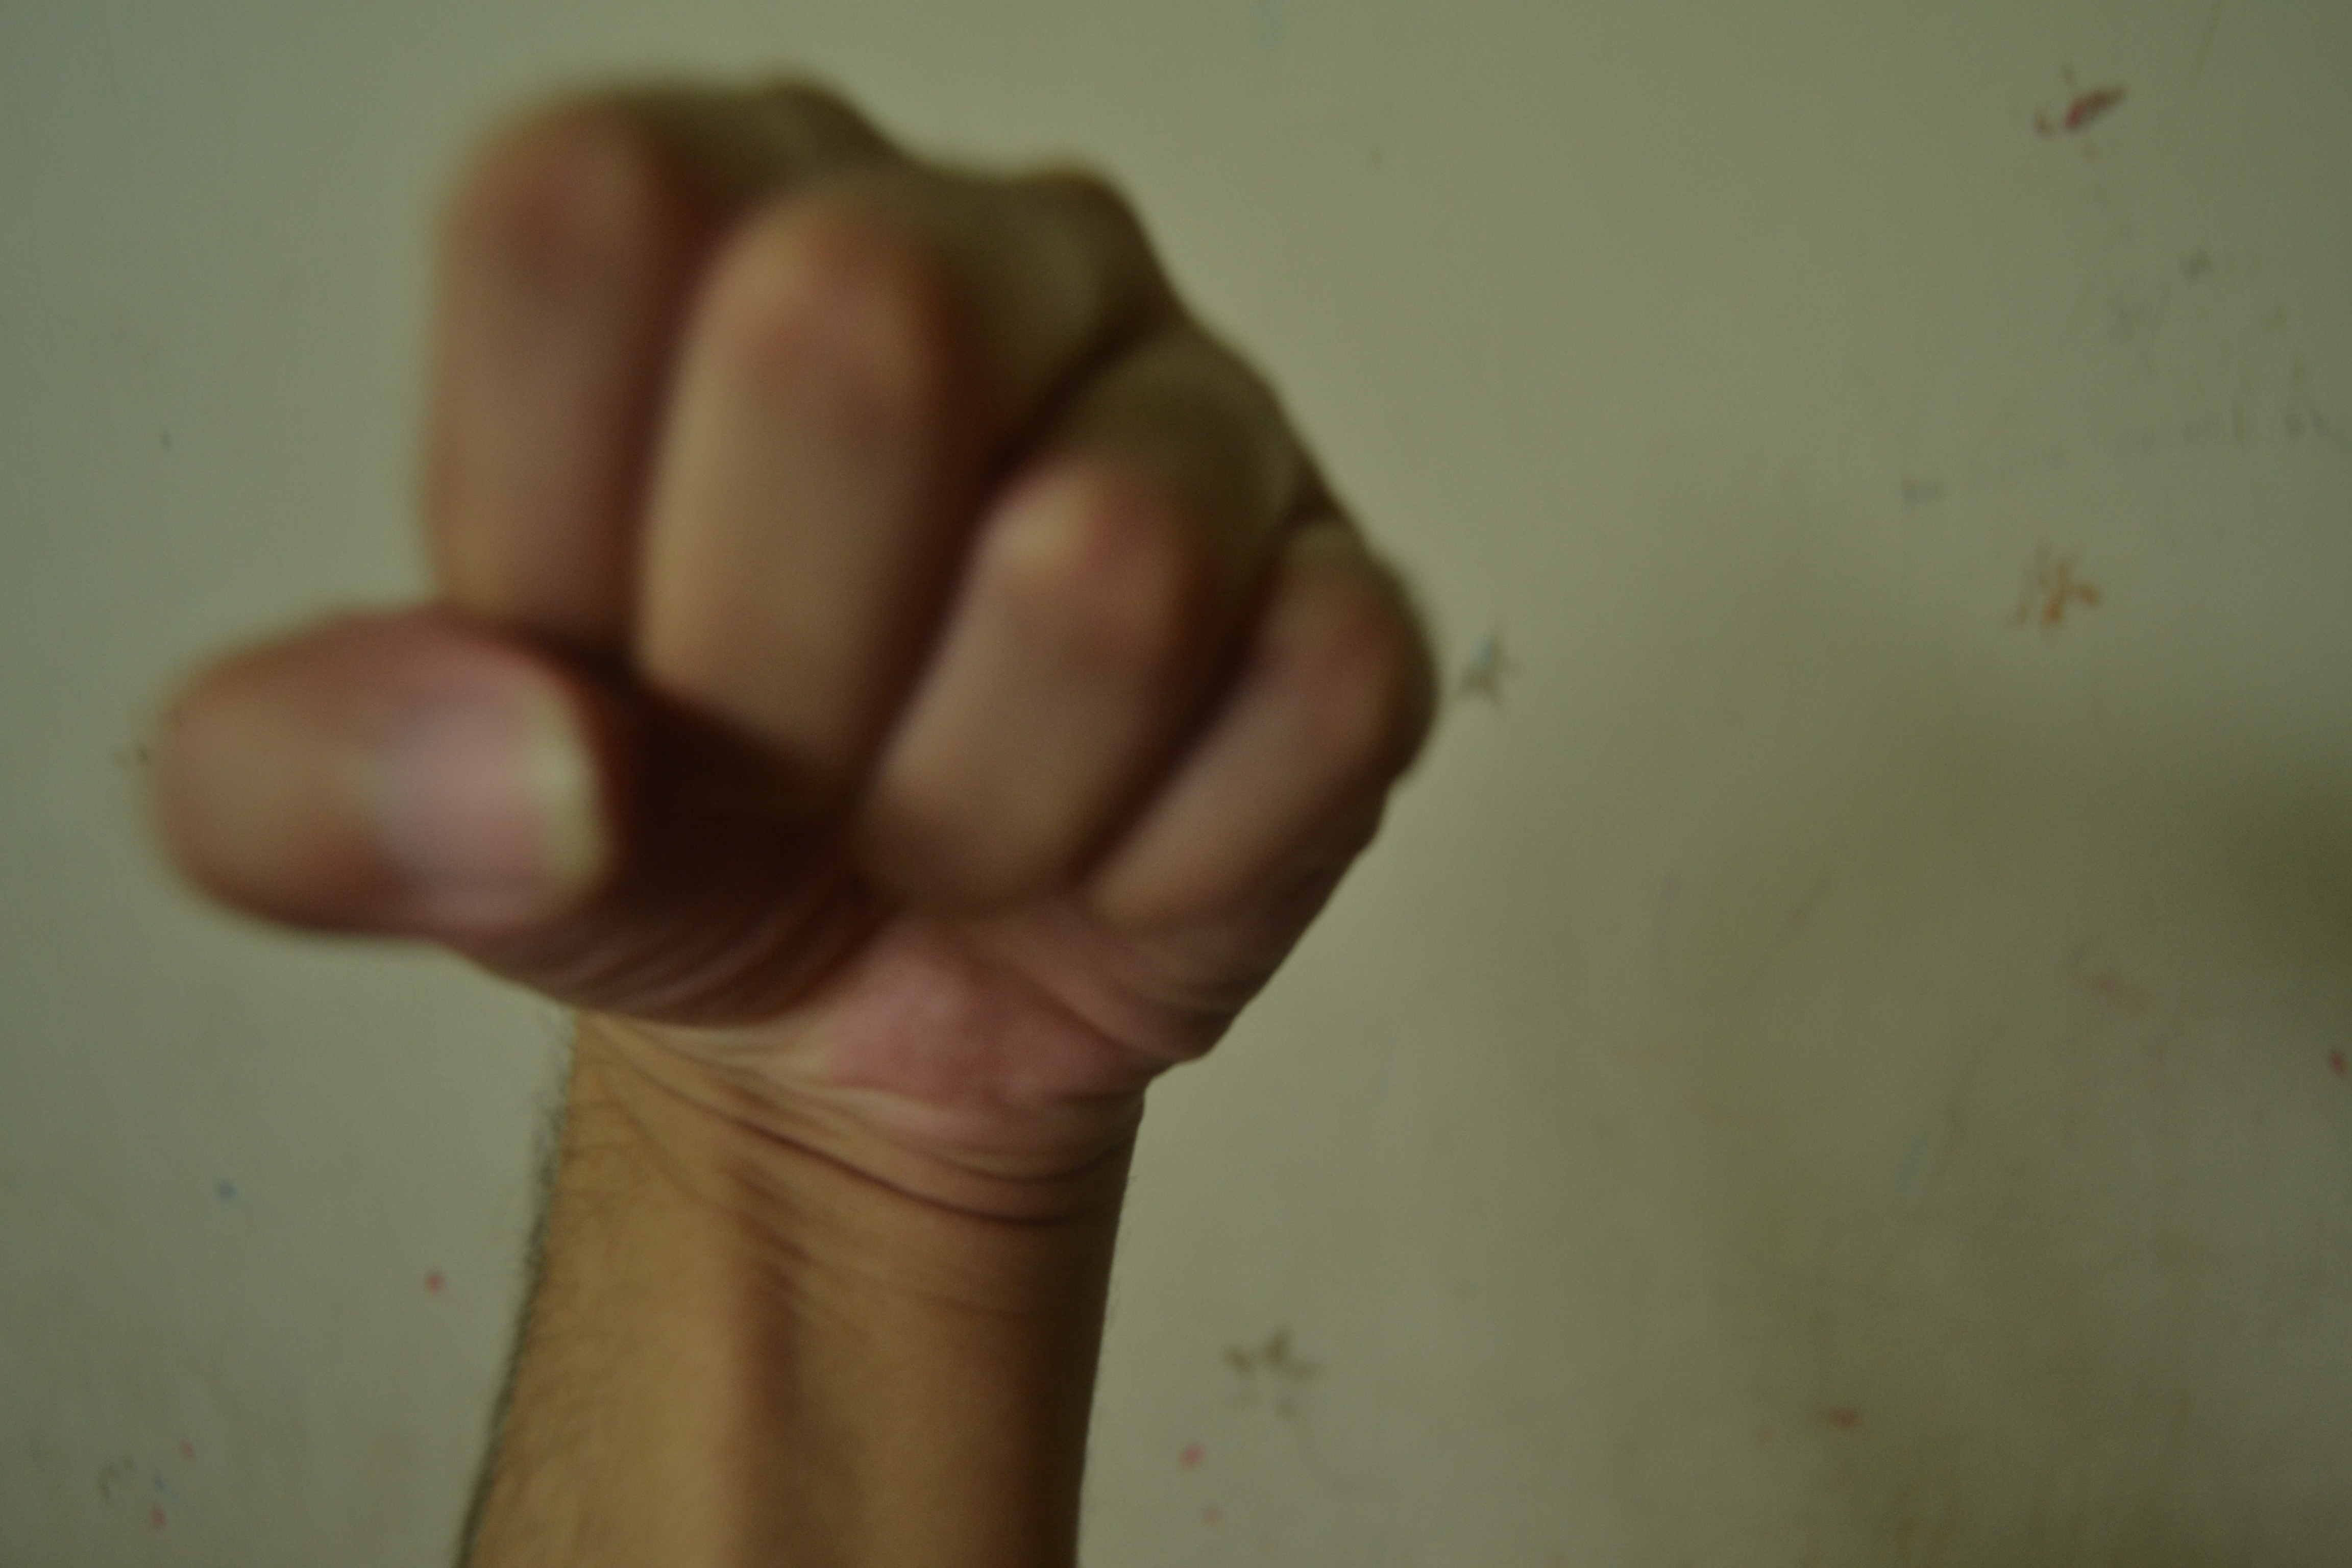click: (138, 54, 1535, 1178)
